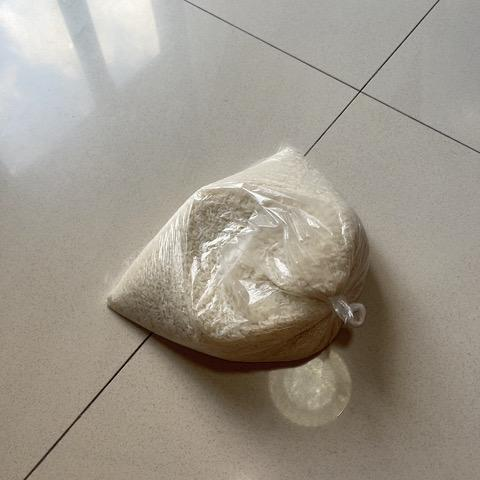rice: (99, 139, 393, 366)
